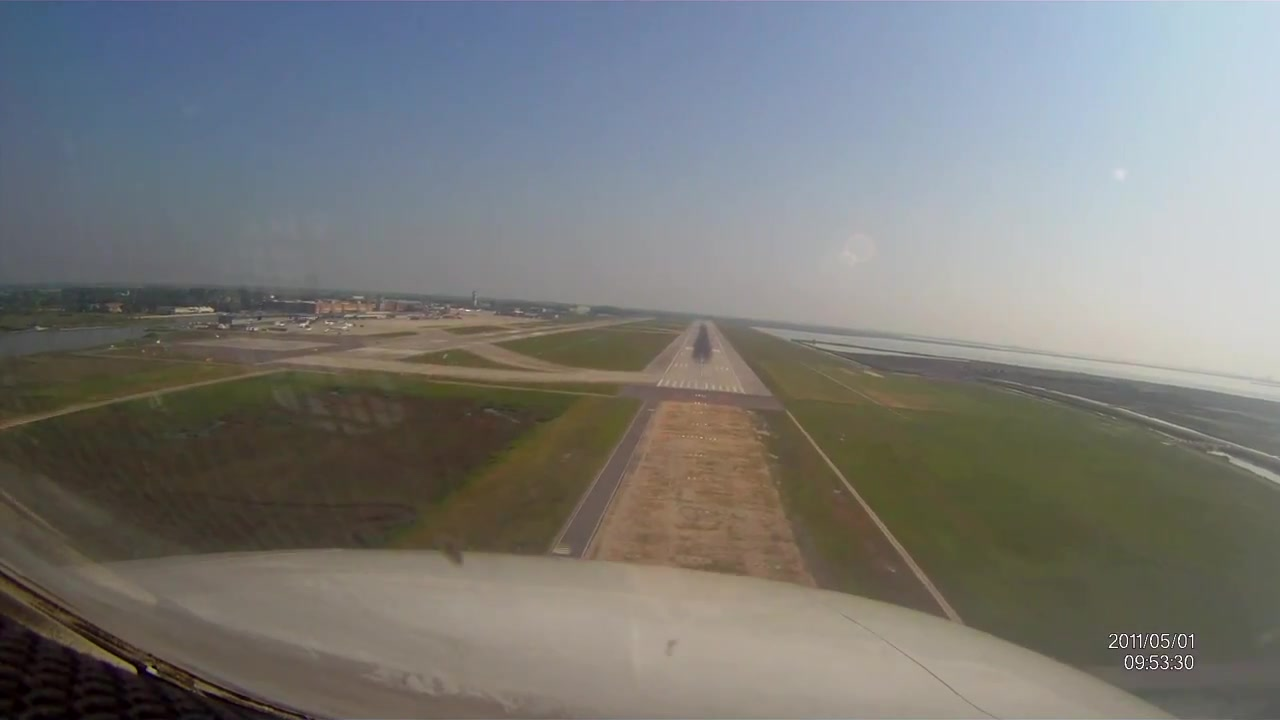entrance: (661, 379, 743, 392)
runway: (657, 320, 746, 396)
